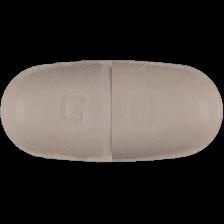10544-278: (0, 0, 224, 224)
